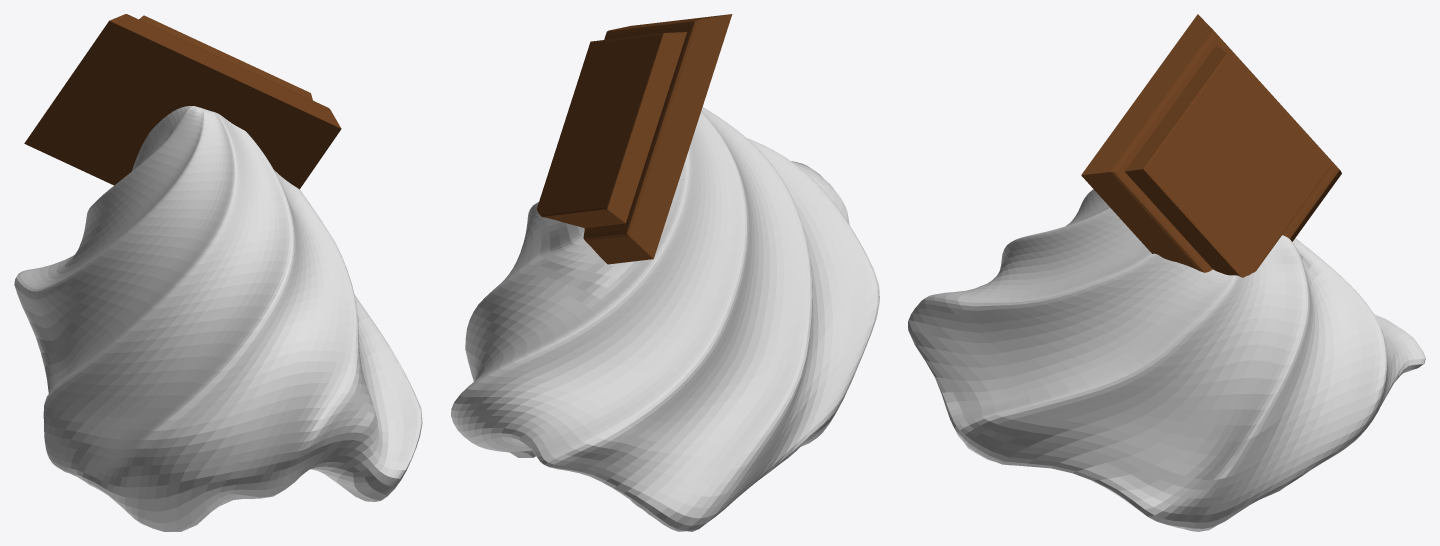
The model's file is Choco.fbx.
3 views of the same model, side by side, from view 1: azimuth 30°, elevation 25°; view 2: azimuth 150°, elevation 25°; view 3: azimuth 270°, elevation 25° (orthographic). The views are drawn at different scales.
Parts seen in each view (by area): view 1: Cylinder, Cube; view 2: Cylinder, Cube; view 3: Cylinder, Cube.
Part boxes in pixels (<box>): Cylinder: <box>14,106,422,531</box>; Cube: <box>24,14,341,189</box>; Cylinder: <box>451,107,879,531</box>; Cube: <box>537,14,732,264</box>; Cylinder: <box>908,189,1425,531</box>; Cube: <box>1081,14,1341,277</box>.
Bounding box in the file's own units: 113 × 176 × 193.
